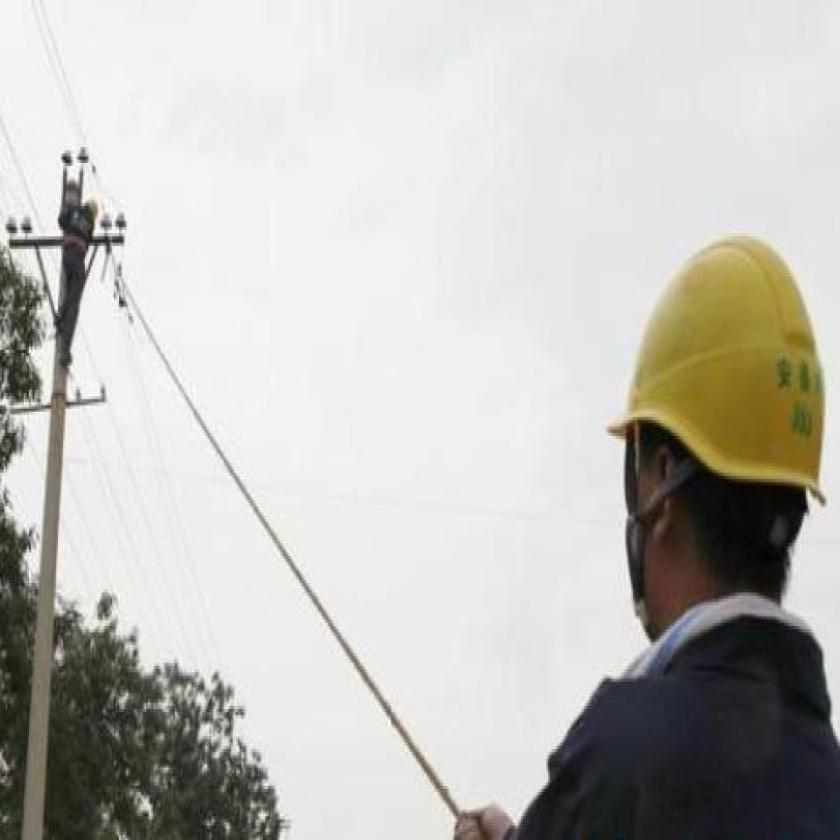Con_casco: (602, 236, 830, 657)
